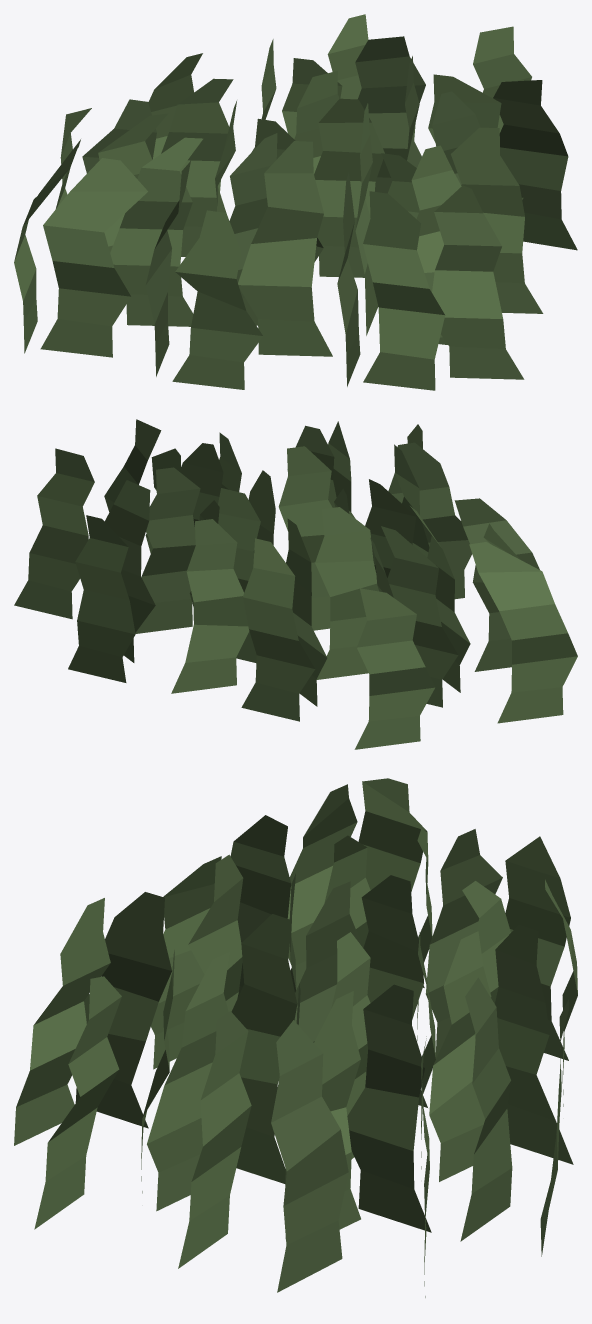
File: grassLow.glb
The picture shows the model from 3 angles, top to bottom: view 1: azimuth 30°, elevation 25°; view 2: azimuth 150°, elevation 25°; view 3: azimuth 270°, elevation 25°; orthographic projection. The views are drawn at different scales.
Visible parts, largest first — view 1: Grass; view 2: Grass; view 3: Grass.
Boxes of the visible parts, x1,y1,x2,y2 form: Grass: (14,14,577,390); Grass: (14,419,577,749); Grass: (14,778,577,1297).
Bounding box in the file's own units: 2.26 × 0.8361 × 1.53.
